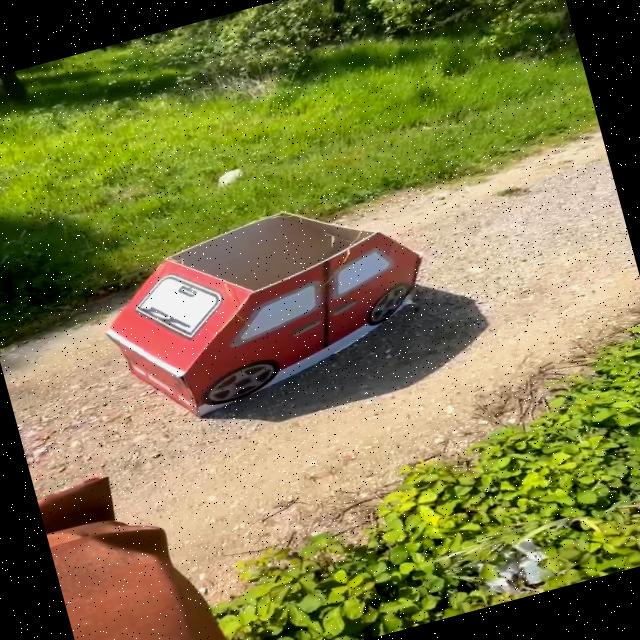red_car: (77, 166, 455, 464)
